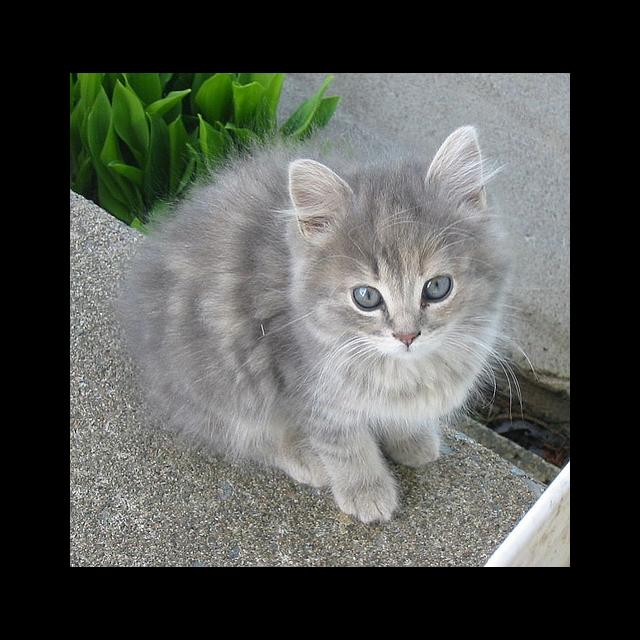animals: (293, 128, 483, 344)
